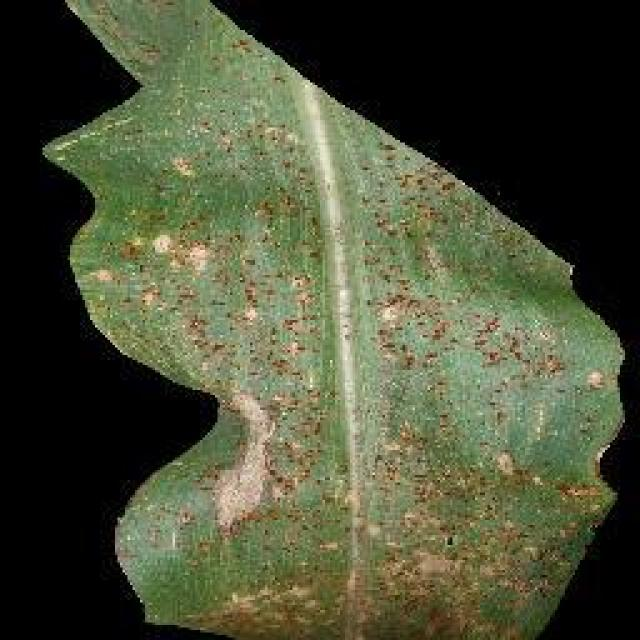Corn Common Rust: (133, 122, 595, 603)
